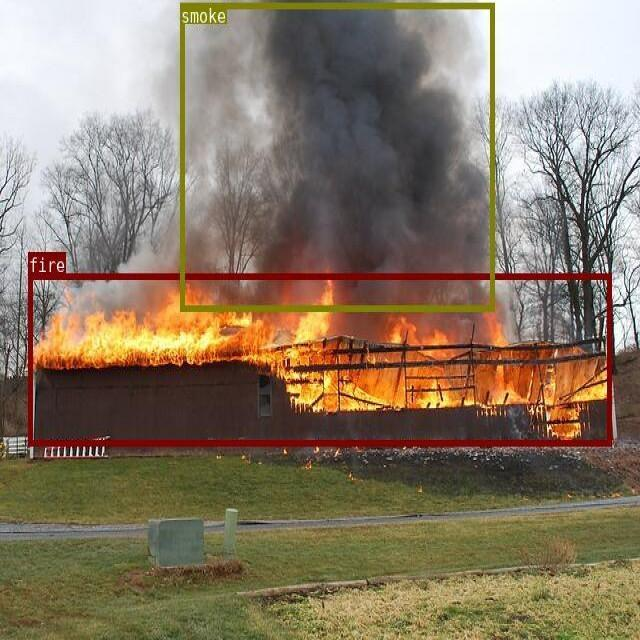fire: (27, 272, 610, 445)
smoke: (179, 2, 494, 310)
